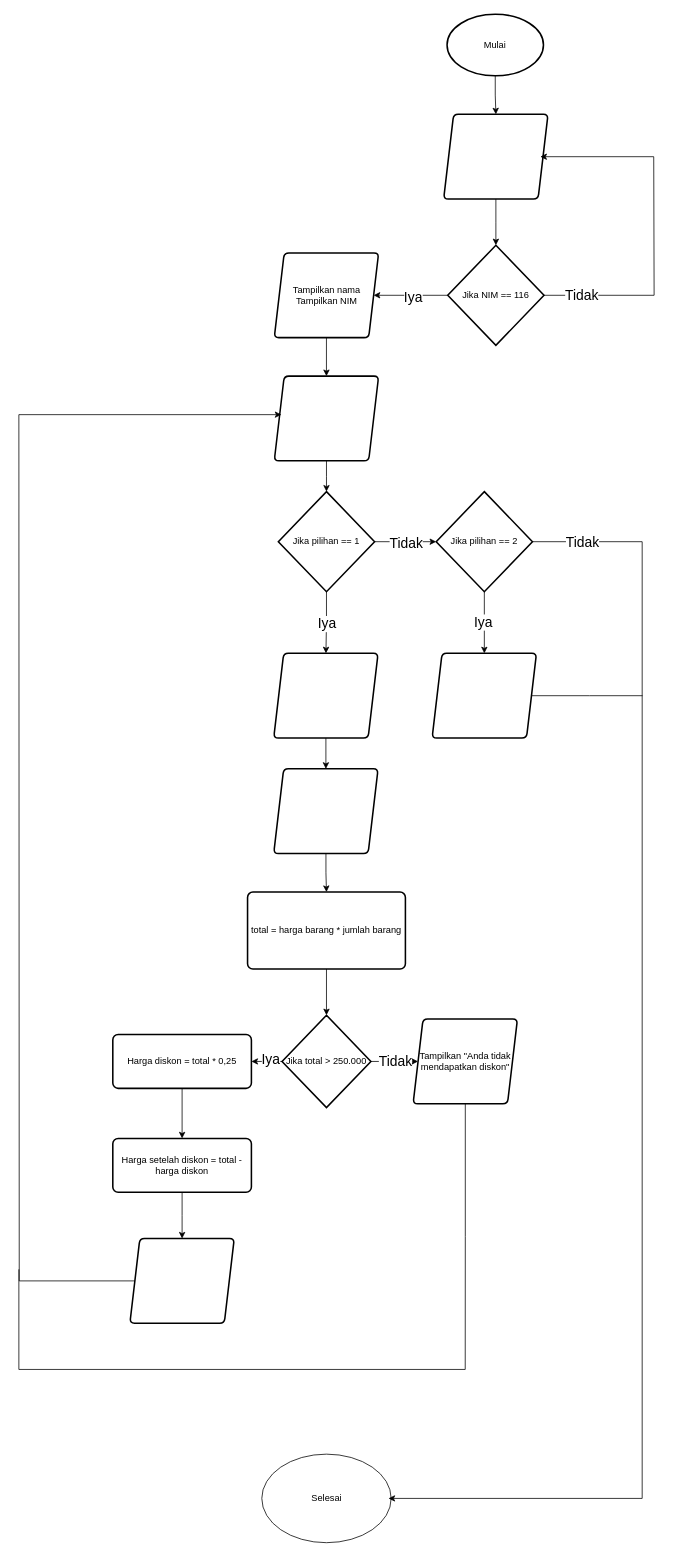
The diagram is 674 pixels wide and 1556 high, and some of its shapes have lost their labels. Here are the shapes that lost their labels. From the top down, the centre of each, then its label:
[495,156]: Masukkan nama Masukkan NIM
[326,418]: Masukkan pilihan
[325,695]: Masukkan harga barang
[484,695]: Tampilkan "Program selesai
[325,811]: Masukkan jumlah barang
[182,1280]: Tampilkan harga setelah diskon
